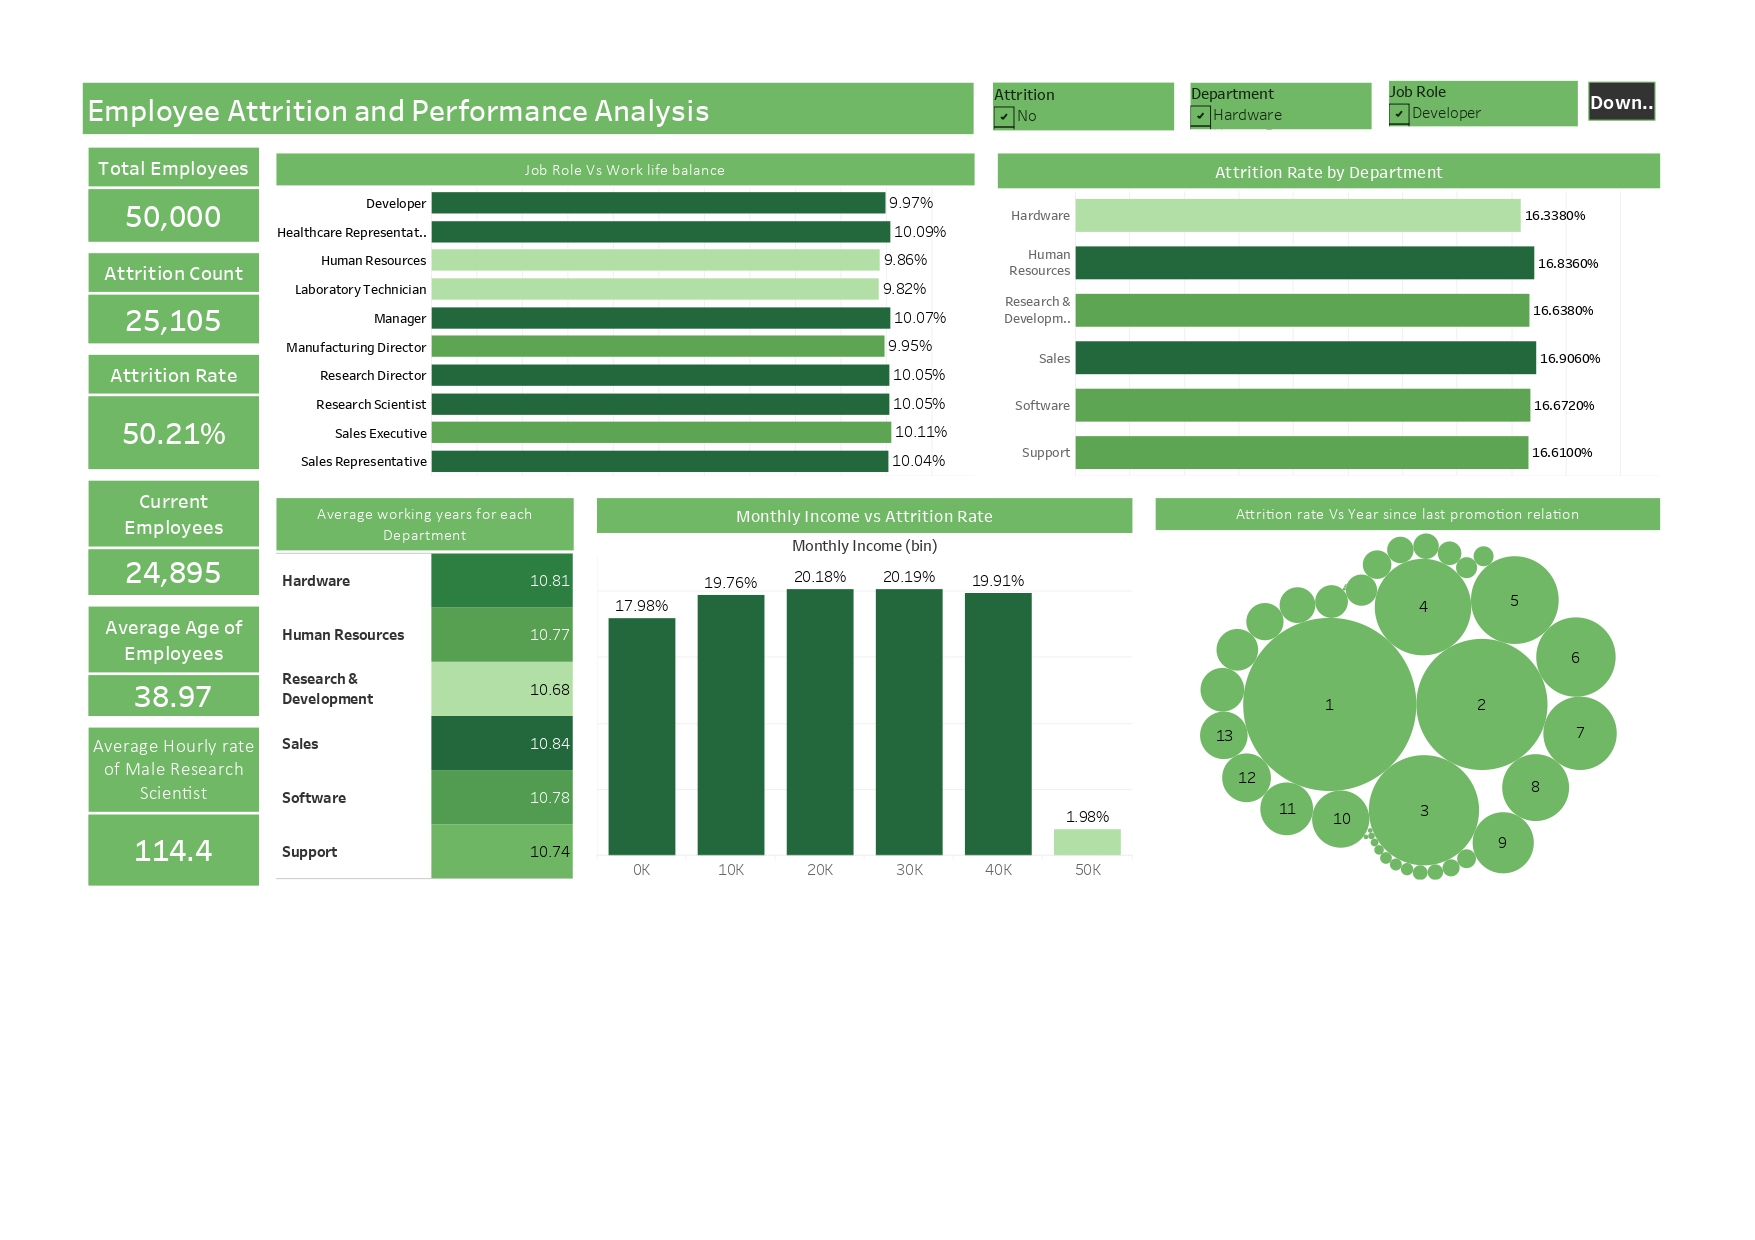

What the dashboard file says about the page in this screenshot:
{"tool":"tableau","page":{"name":"Dashboard 1","canvas":[1000,1000],"units":"permille","ordinal":0},"visuals":[{"type":"filter","title":"jobrolevswlb","param":"[federated.0or12nk0obl2kc1bubgt11ouwsu3].[none:JobRole:nk]","box":[819,7,117.7,55.2]},{"type":"dashboard-object","box":[943.3,8.2,41.6,47]},{"type":"worksheet","title":"title","mark":"Automatic","box":[4.8,9.4,555.2,71.7]},{"type":"blank","box":[560.1,9.4,435.1,71.7]},{"type":"filter","title":"attritionratebydepartment","param":"[federated.0or12nk0obl2kc1bubgt11ouwsu3].[none:Attrition:nk]","box":[572.1,9.4,112.9,57.6]},{"type":"filter","title":"attritionratebydepartment","param":"[federated.0or12nk0obl2kc1bubgt11ouwsu3].[none:Department:nk]","box":[695.2,9.4,112.9,56.4]},{"type":"worksheet","title":"total_employees","mark":"Automatic","box":[4.8,81.1,113.5,139.8]},{"type":"worksheet","title":"jobrolevswlb","mark":"Automatic","rows":["JobRole"],"cols":["WorkLifeBalance"],"box":[118.3,81.1,449.4,418.9]},{"type":"worksheet","title":"attritionratebydepartment","mark":"Automatic","rows":["Department"],"cols":["Attrition"],"box":[567.8,81.1,427.4,418.9]},{"type":"worksheet","title":"attrition_count","mark":"Automatic","box":[4.8,220.9,113.5,128.1]},{"type":"worksheet","title":"attritionrate","mark":"Automatic","box":[4.8,349,113.5,117.5]},{"type":"worksheet","title":"CurrentEmployees","mark":"Automatic","box":[4.8,466.5,113.5,149.2]},{"type":"worksheet","title":"avgworkingyearsbydep","mark":"Square","rows":["Department"],"box":[118.3,500,199.7,490.6]},{"type":"worksheet","title":"monthlyincomevsattritionrate","mark":"Automatic","cols":["Monthly Income (bin)"],"box":[318,500,348.4,490.6]},{"type":"worksheet","title":"attritionratevsyearsincelastpromotion","mark":"Circle","box":[666.4,500,328.7,490.6]},{"type":"worksheet","title":"avgageofemployees","mark":"Automatic","box":[4.8,615.8,113.5,166.9]},{"type":"worksheet","title":"avghourlyrateofmrs","mark":"Automatic","box":[4.8,782.6,113.5,208]}]}

Visuals, with their boxes on the dashboard's canvas, which has no fixed pixel size, in thousandths of its width and height (x1, y1, x2, y2). These are canvas units, not pixel positions in the 1755x1240 screenshot, which may show the page scaled, cropped or inside an application window:
"jobrolevswlb" filter: (819, 7, 937, 62)
dashboard-object: (943, 8, 985, 55)
"title" worksheet: (5, 9, 560, 81)
blank: (560, 9, 995, 81)
"attritionratebydepartment" filter: (572, 9, 685, 67)
"attritionratebydepartment" filter: (695, 9, 808, 66)
"total_employees" worksheet: (5, 81, 118, 221)
"jobrolevswlb" worksheet: (118, 81, 568, 500)
"attritionratebydepartment" worksheet: (568, 81, 995, 500)
"attrition_count" worksheet: (5, 221, 118, 349)
"attritionrate" worksheet: (5, 349, 118, 466)
"CurrentEmployees" worksheet: (5, 466, 118, 616)
"avgworkingyearsbydep" worksheet (Square marks): (118, 500, 318, 991)
"monthlyincomevsattritionrate" worksheet: (318, 500, 666, 991)
"attritionratevsyearsincelastpromotion" worksheet (Circle marks): (666, 500, 995, 991)
"avgageofemployees" worksheet: (5, 616, 118, 783)
"avghourlyrateofmrs" worksheet: (5, 783, 118, 991)
